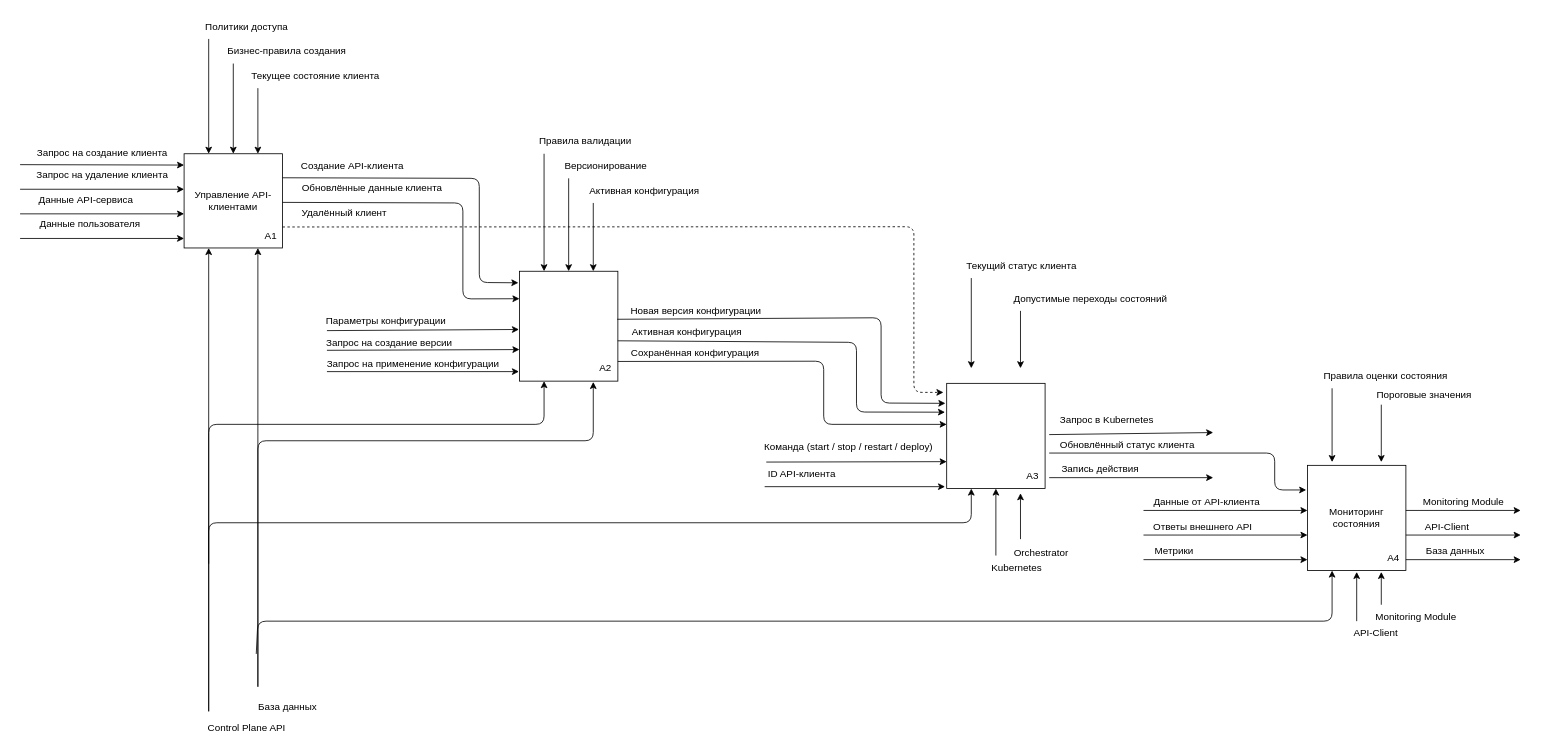
Some shapes in this 1542 by 754 pixel diagram are drawn without their labels. Here are the shapes that lost their labels. From the top down, the box of each, then its label:
(519, 270, 618, 381): Управление конфигурациями
(946, 383, 1045, 489): Выполнение действий
